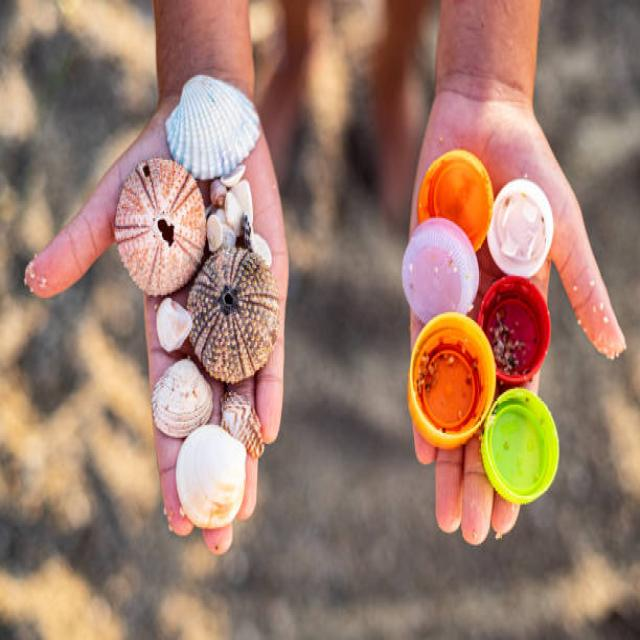plastic: (426, 169, 542, 536)
